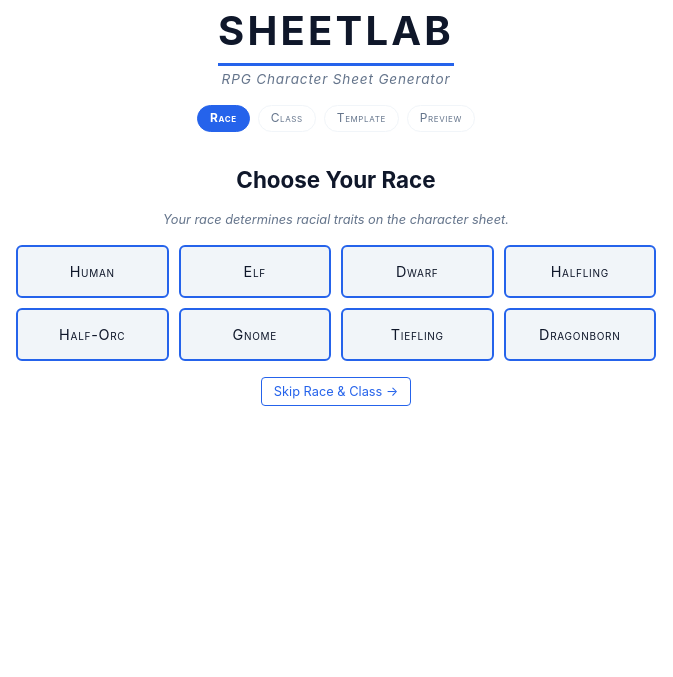
Test: Wizard › template settings back button returns to template grid
This screenshot has width=673, height=677.
Click the button "Skip Race & Class →" at (336, 392), box top-left (261, 377), bottom-right (411, 406)
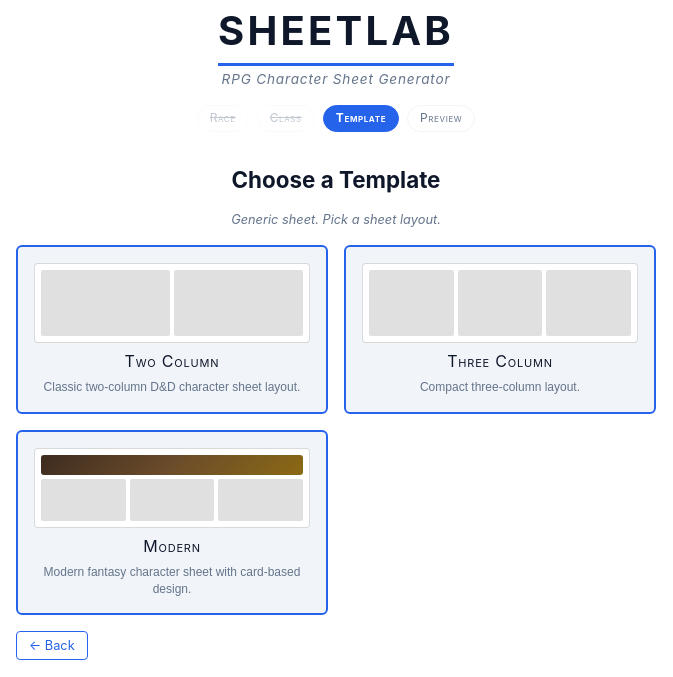
Click the button with aria-label "select two column template" at (172, 330), box top-left (16, 245), bottom-right (328, 414)
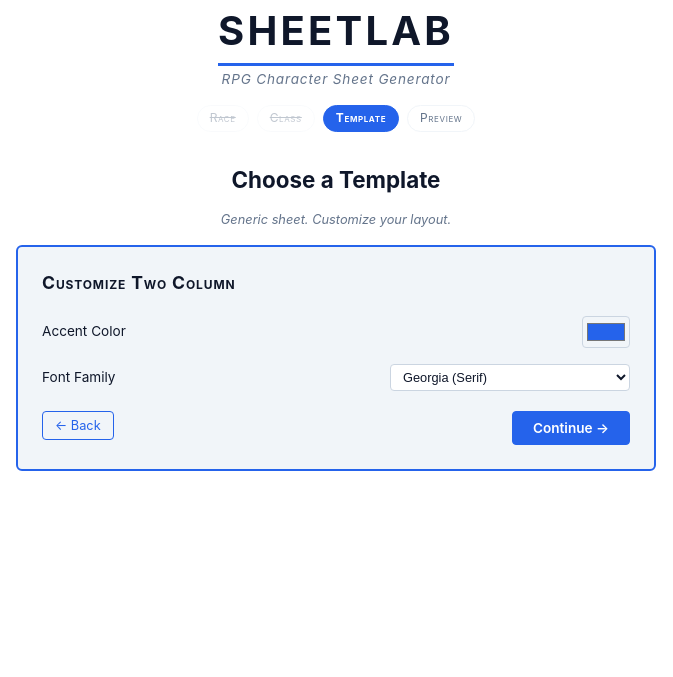
Click the button "← Back" at (78, 425), box top-left (42, 411), bottom-right (114, 440)
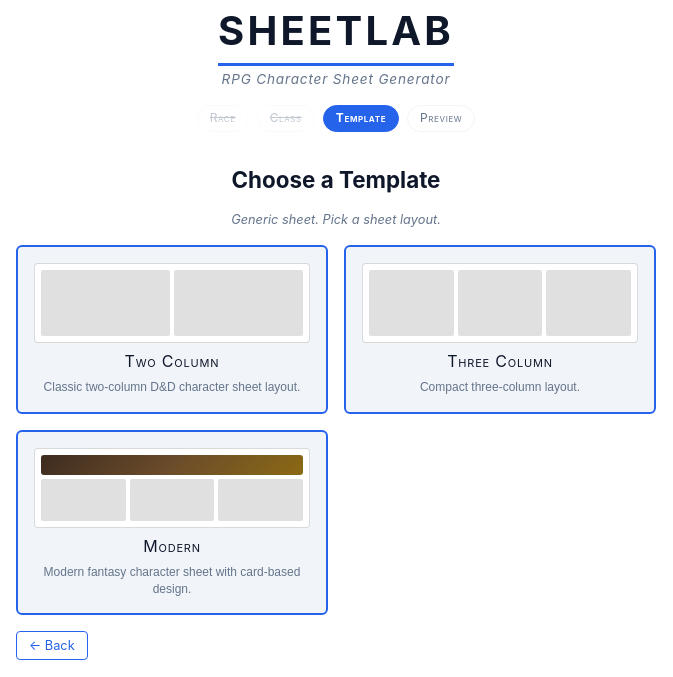
expect the button with aria-label "select two column template" is shown: met, box top-left (16, 245), bottom-right (328, 414)
